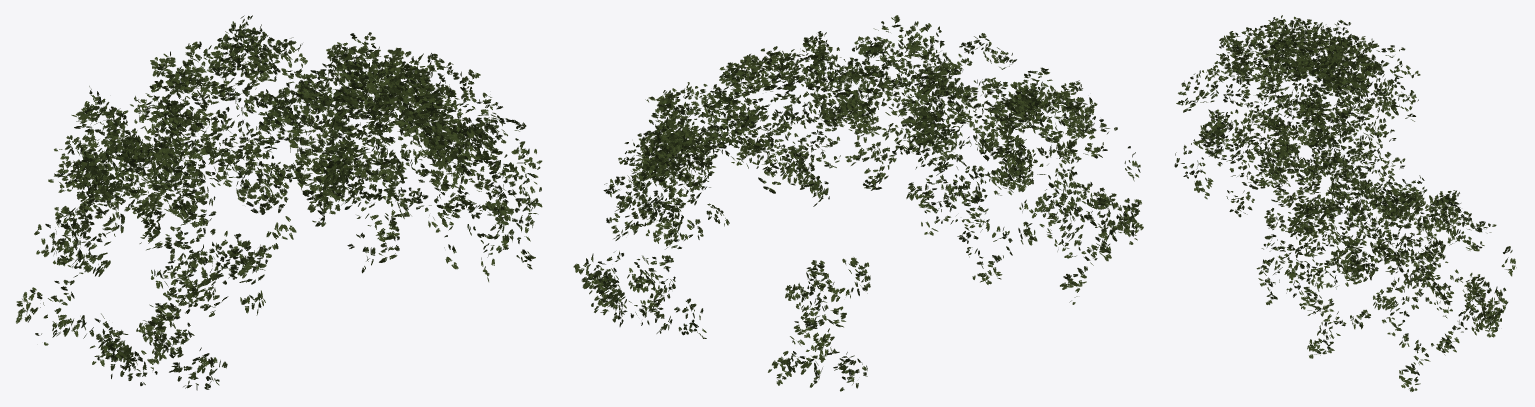
Rendered from MESH_AS11_M_Chinaberry_LOD2.fbx.
The picture shows the model from 3 angles, left to right: view 1: azimuth 30°, elevation 25°; view 2: azimuth 150°, elevation 25°; view 3: azimuth 270°, elevation 25°; orthographic projection. The views are drawn at different scales.
Parts seen in each view (by area): view 1: MI_LOD2_001; view 2: MI_LOD2_001; view 3: MI_LOD2_001.
Boxes of the visible parts, x1,y1,x2,y2 form: MI_LOD2_001: (16,15,542,390); MI_LOD2_001: (573,15,1143,391); MI_LOD2_001: (1174,15,1516,391).
Size of what is drawn, in the model's own units: 797 by 519 by 606.
